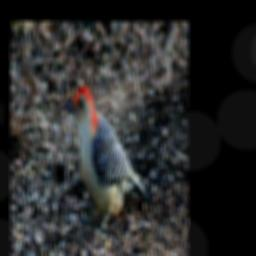Woodpecker: (61, 86, 147, 242)
